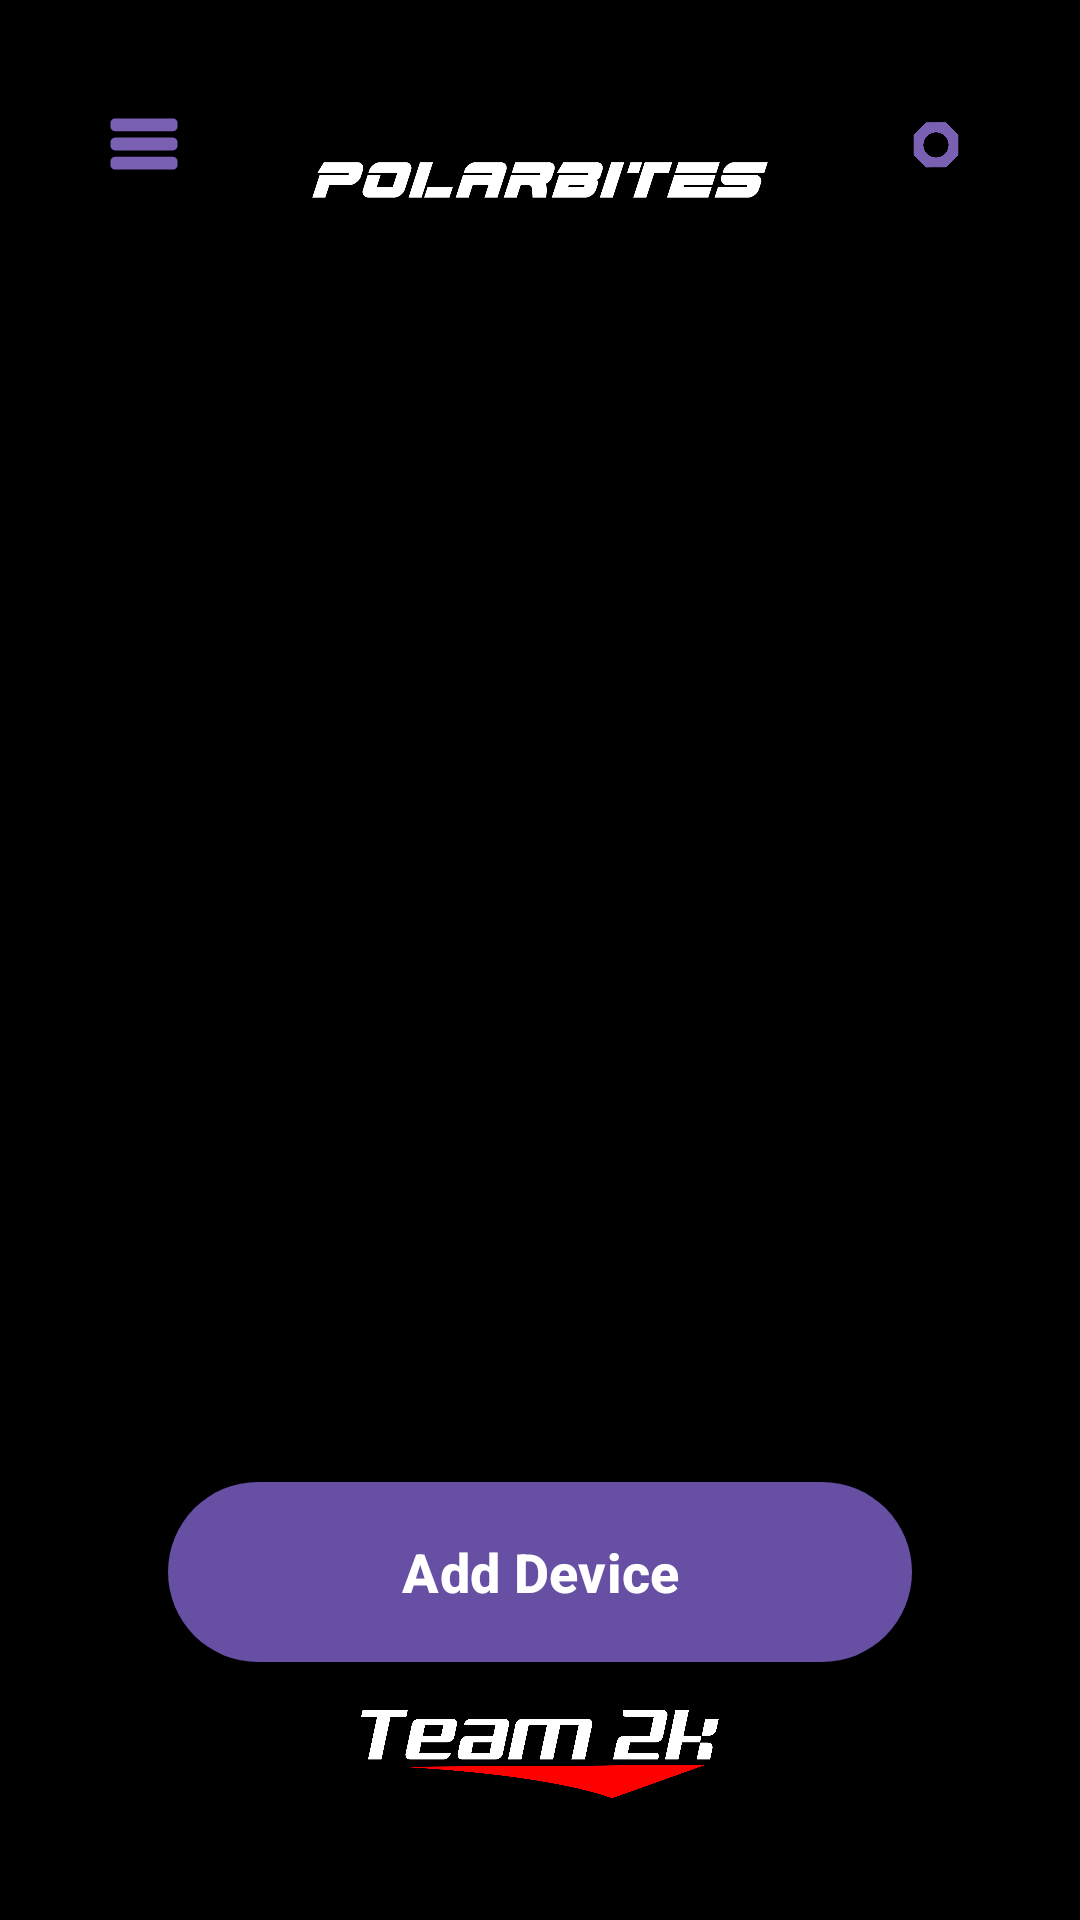

Point at icon controls on the screen. Image size 1080×1920, points as (x,y).
menu: (144,144)
setting: (936,145)
